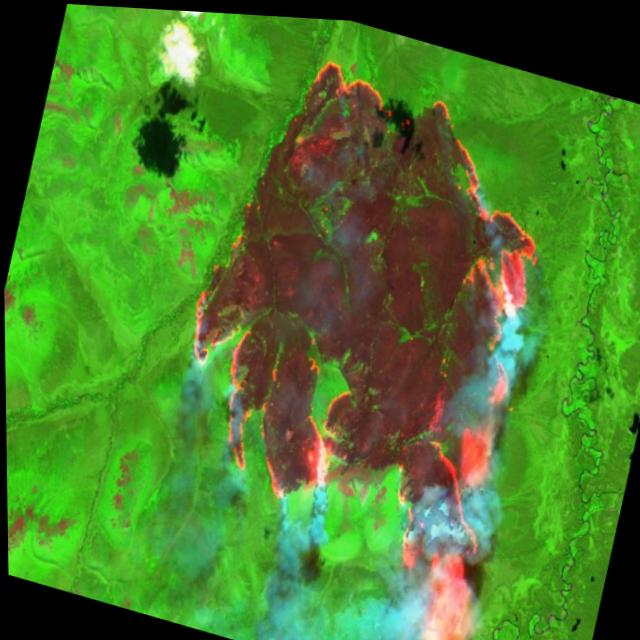fire: (119, 20, 592, 640)
